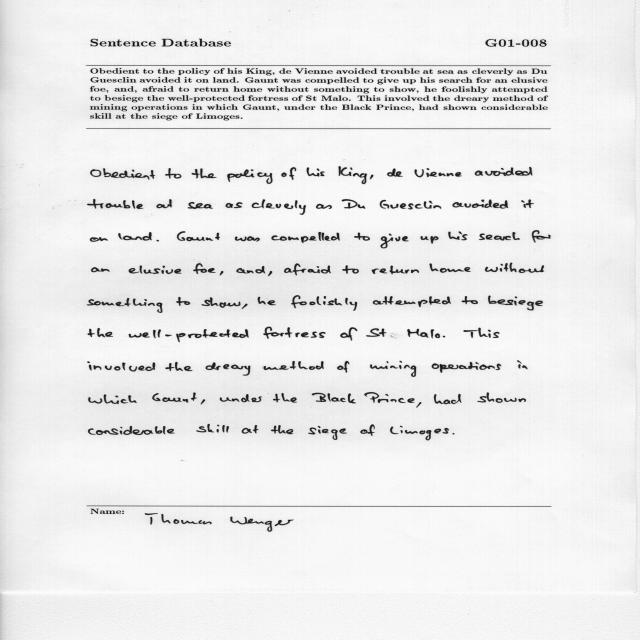word: (129, 329, 249, 342), (88, 298, 163, 313), (292, 296, 358, 311), (390, 426, 449, 441), (252, 199, 306, 215), (373, 296, 451, 307), (488, 296, 543, 311), (88, 426, 175, 435), (91, 168, 155, 180), (271, 232, 340, 243), (432, 362, 501, 373), (264, 327, 326, 339), (88, 361, 155, 372), (370, 361, 416, 377), (227, 169, 273, 184), (206, 362, 251, 376), (485, 263, 544, 273), (284, 264, 331, 276), (364, 392, 415, 403), (88, 199, 144, 209), (380, 200, 441, 209), (308, 426, 347, 440), (264, 361, 324, 370), (477, 392, 526, 403), (475, 167, 532, 176), (453, 200, 509, 209), (152, 392, 197, 403), (88, 395, 137, 405), (312, 393, 356, 404), (339, 167, 367, 184), (177, 232, 220, 242), (202, 297, 241, 308), (129, 266, 182, 274), (415, 168, 462, 177), (381, 234, 409, 249), (430, 263, 471, 273), (372, 266, 419, 274), (479, 232, 520, 241), (464, 328, 500, 338), (220, 394, 262, 402), (118, 232, 152, 241), (408, 329, 441, 338), (196, 424, 229, 433), (434, 394, 461, 404), (193, 263, 216, 274), (165, 362, 193, 371), (192, 169, 217, 179), (342, 199, 366, 209), (273, 393, 297, 403), (341, 327, 358, 341), (532, 231, 551, 243), (88, 328, 113, 337), (236, 266, 265, 273), (271, 425, 293, 434), (282, 167, 297, 180), (366, 328, 387, 337), (448, 232, 468, 241), (360, 424, 375, 436), (165, 168, 181, 179), (188, 202, 213, 209), (306, 168, 325, 177), (342, 265, 359, 274), (242, 425, 259, 434), (387, 168, 403, 177), (156, 199, 172, 208), (421, 236, 439, 244), (258, 297, 276, 305), (337, 361, 349, 373), (461, 296, 478, 304), (354, 233, 370, 241), (176, 297, 190, 306), (235, 237, 260, 242), (521, 200, 534, 208), (226, 202, 243, 208), (517, 361, 528, 370), (91, 268, 110, 273), (90, 237, 108, 242), (316, 204, 332, 209), (242, 304, 248, 309), (416, 402, 421, 408), (268, 271, 272, 276), (201, 400, 205, 405), (220, 271, 224, 275), (370, 175, 373, 179), (156, 240, 159, 242), (453, 433, 455, 435), (443, 336, 445, 337)
